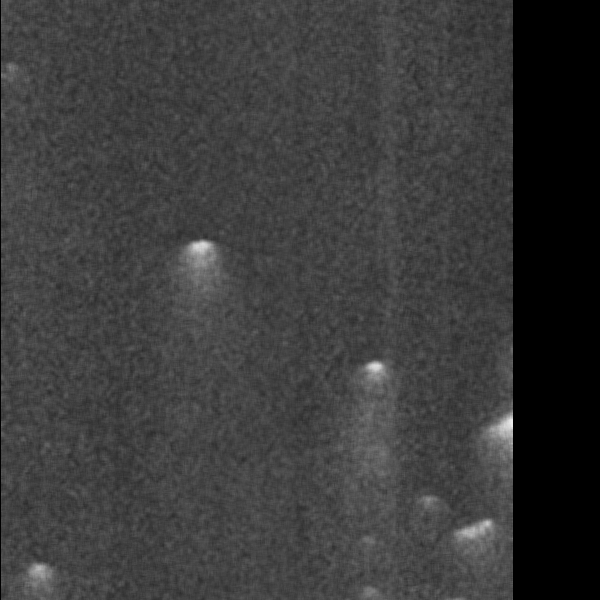spark: (199, 290, 256, 364), (186, 210, 229, 255)
